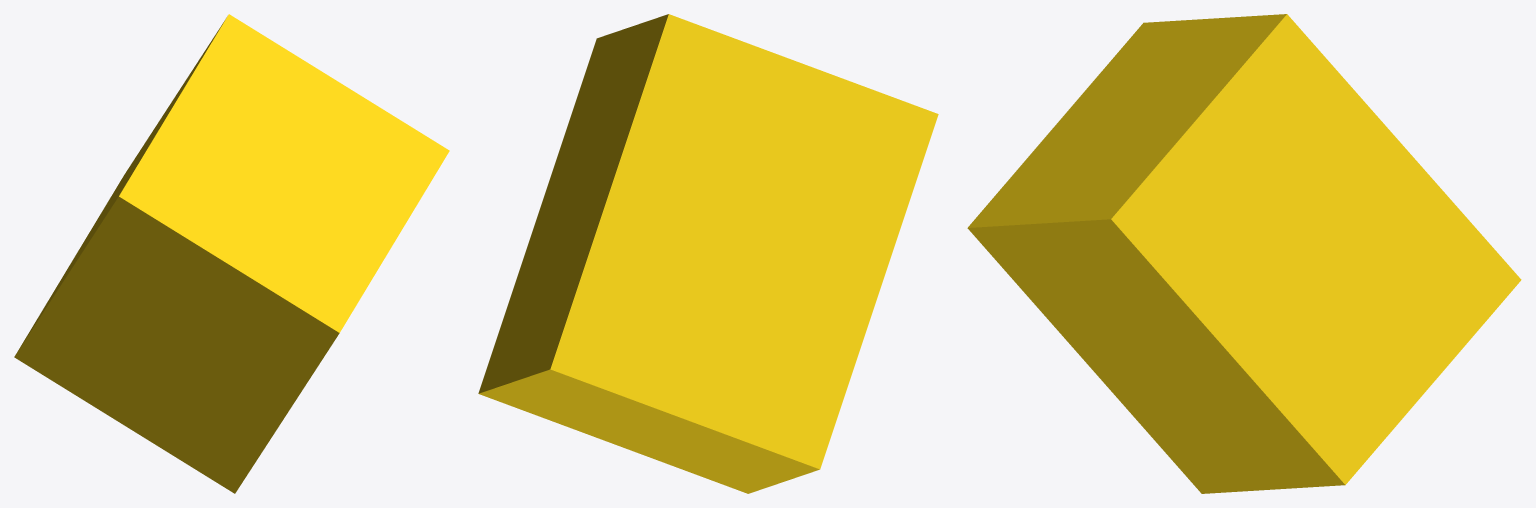
File: sans.obj.glb
The picture shows the model from 3 angles, left to right: view 1: azimuth 30°, elevation 25°; view 2: azimuth 150°, elevation 25°; view 3: azimuth 270°, elevation 25°; orthographic projection. The views are drawn at different scales.
Parts seen in each view (by area): view 1: mesh_id27; view 2: mesh_id27; view 3: mesh_id27.
Part boxes in pixels (<box>): mesh_id27: <box>14,14,449,493</box>; mesh_id27: <box>478,14,938,493</box>; mesh_id27: <box>967,14,1521,493</box>.
Bounding box in the file's own units: 0.2926 × 0.3924 × 0.3962.
1 material, 1 textured.
